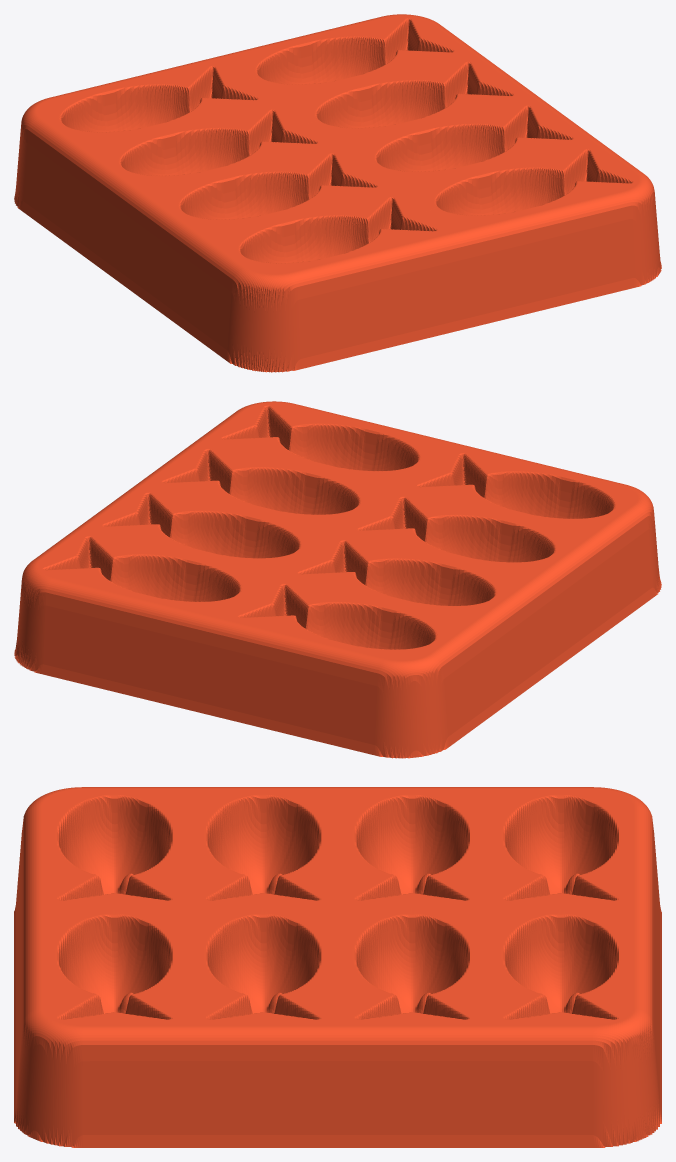
The model's file is mold.glb.
The picture shows the model from 3 angles, top to bottom: view 1: azimuth 30°, elevation 25°; view 2: azimuth 150°, elevation 25°; view 3: azimuth 270°, elevation 25°; orthographic projection. The views are drawn at different scales.
Parts seen in each view (by area): view 1: geometry_0; view 2: geometry_0; view 3: geometry_0.
Boxes of the visible parts, bbox=[...] form: geometry_0: bbox=[14, 14, 661, 372]; geometry_0: bbox=[14, 401, 661, 758]; geometry_0: bbox=[14, 787, 661, 1147].
Size of the model in its own units: 0.0809 by 0.0159 by 0.0851.
